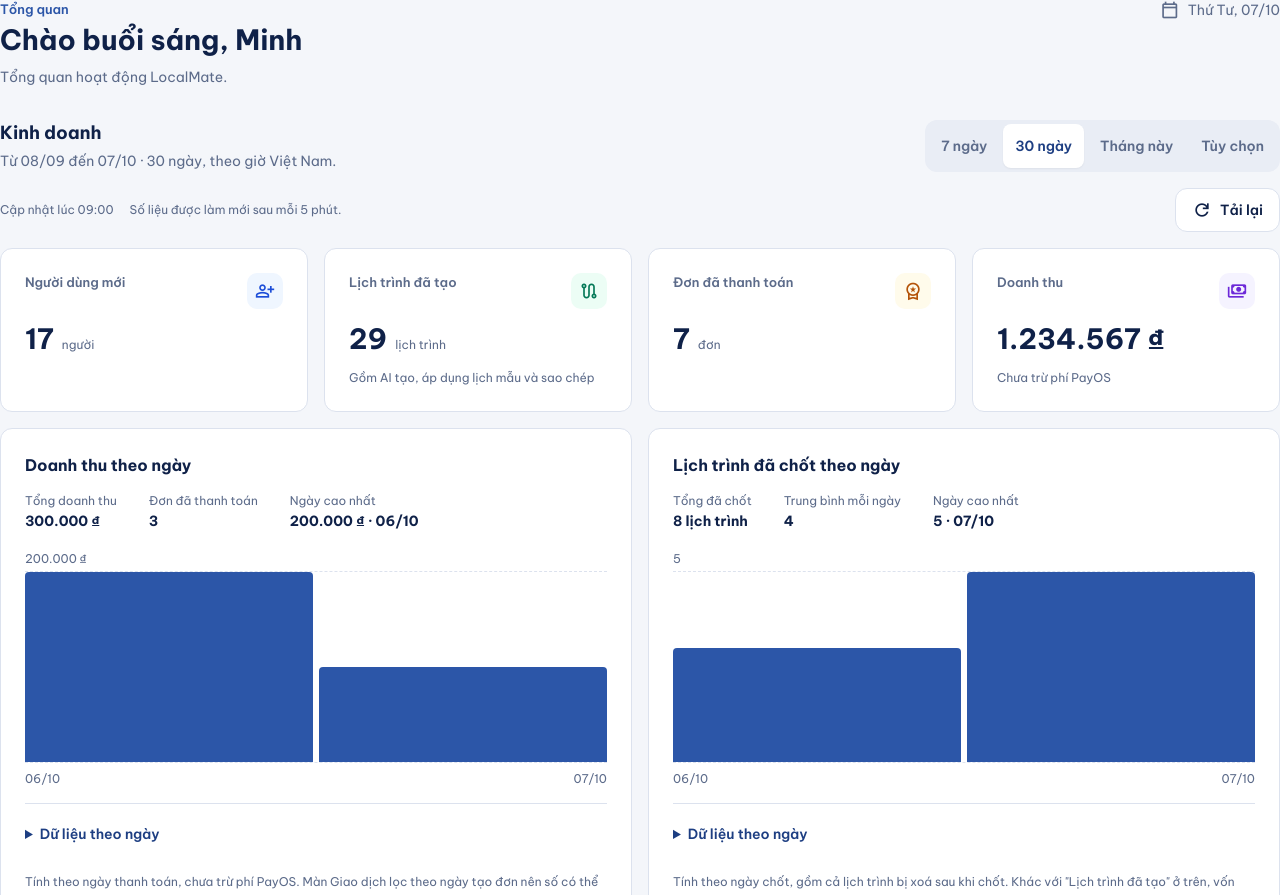
Scenario: A3 Dashboard preservation contract › T09 invalid custom retains meaningful validation and blocks requests
Expected: the element "Người dùng mới" is shown, [0,248,308,412]
Expected: the element "Người dùng mới" shows "17", [25,321,54,356]
Click the button "Tùy chọn": (1233, 146) [1189,124,1276,168]
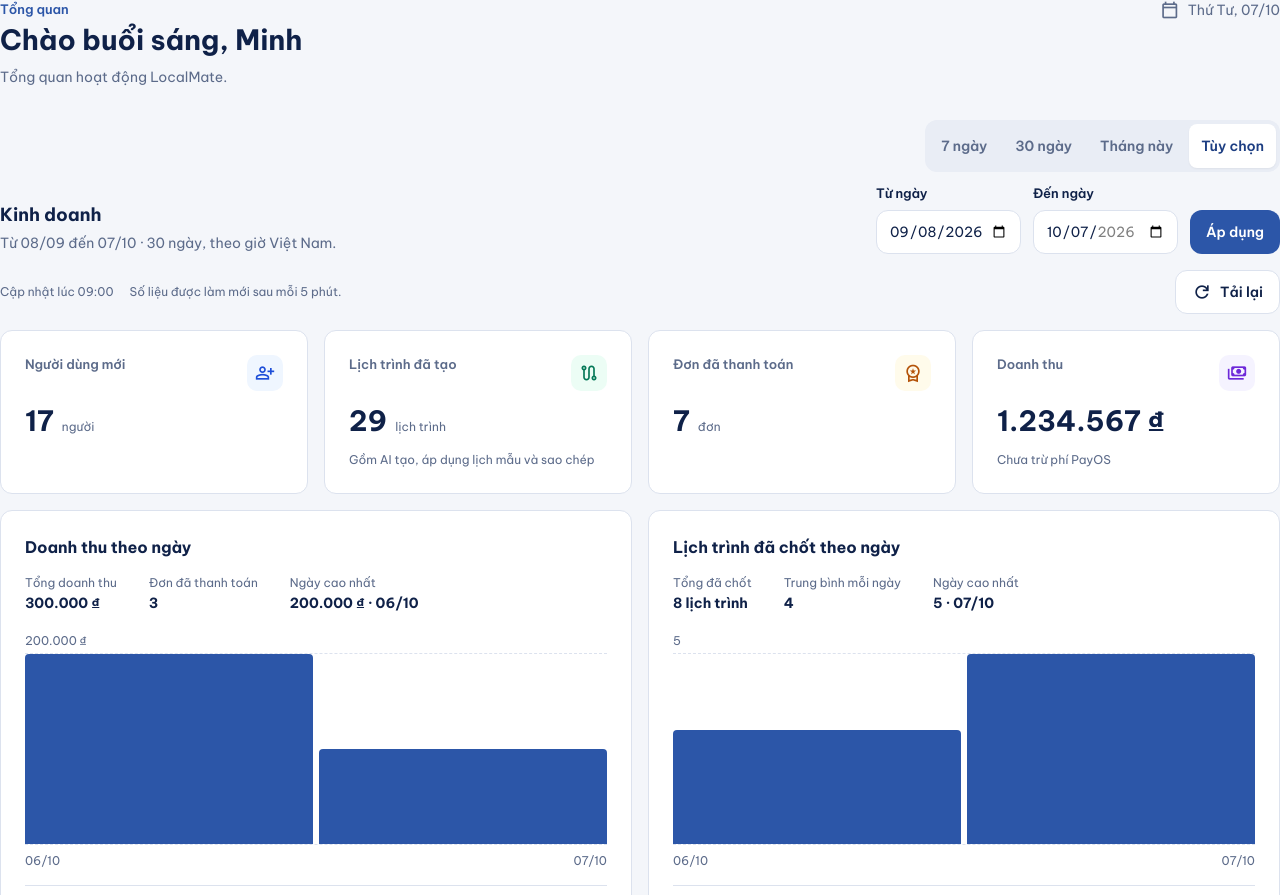
In the date field labelled "Từ ngày": (948, 232) [876,210,1021,254], type "2026-10-08"
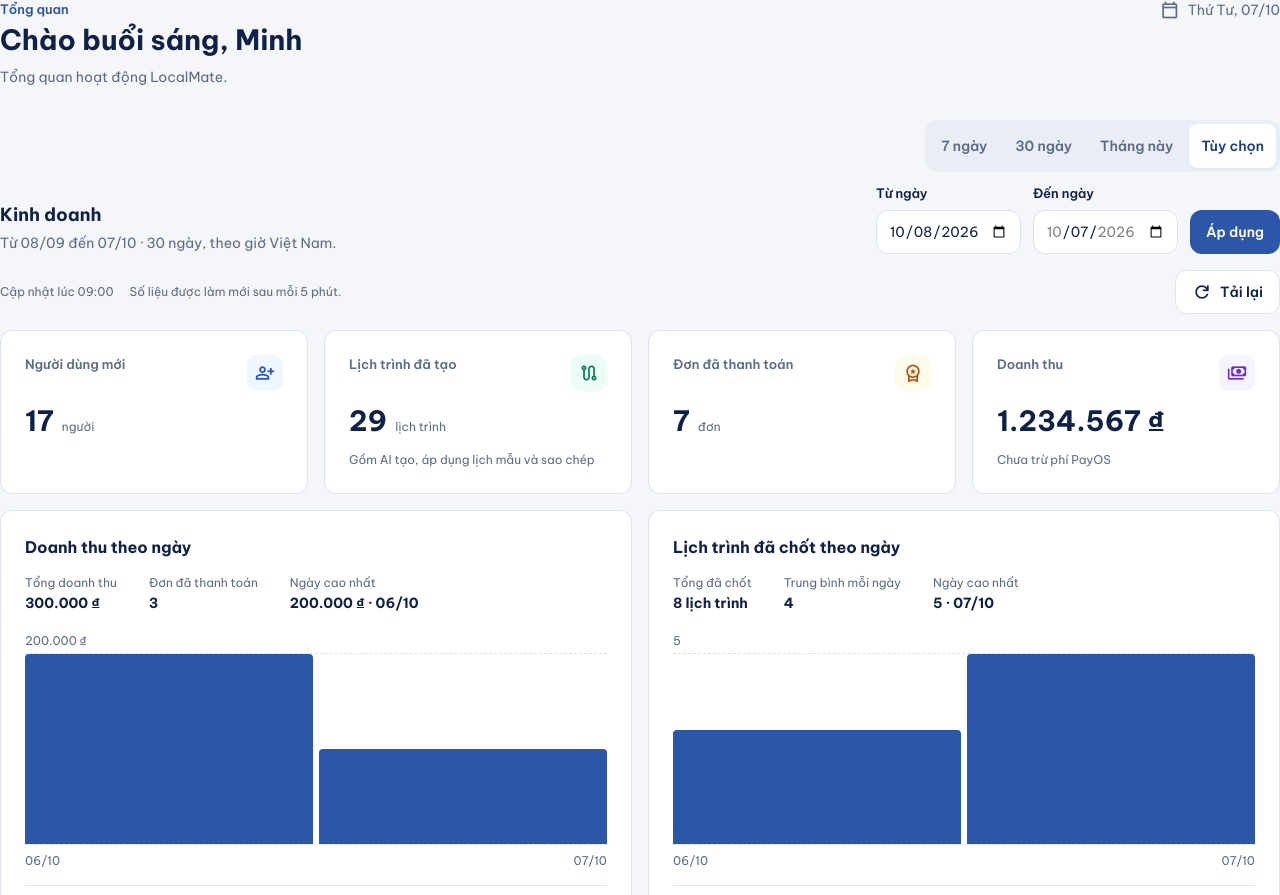
Click the button "Áp dụng": (1235, 232) [1190,210,1279,254]
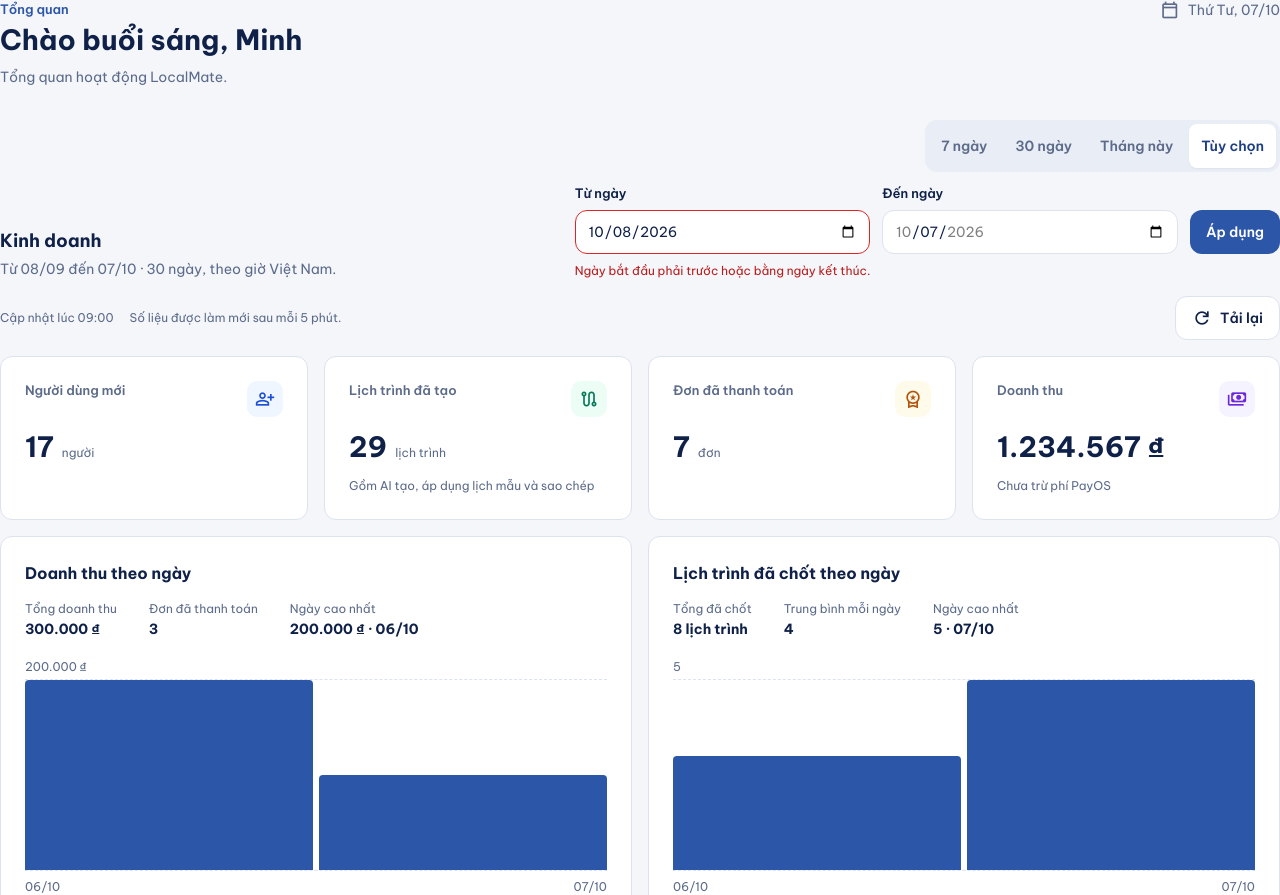
Now the message reads "Ngày bắt đầu phải trước hoặc bằng ngày kết thúc.", box [575,263,870,278]
